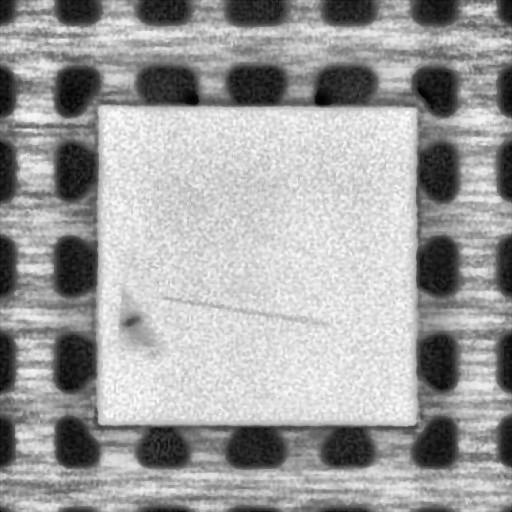DIE_CRACK: (157, 292, 325, 327)
